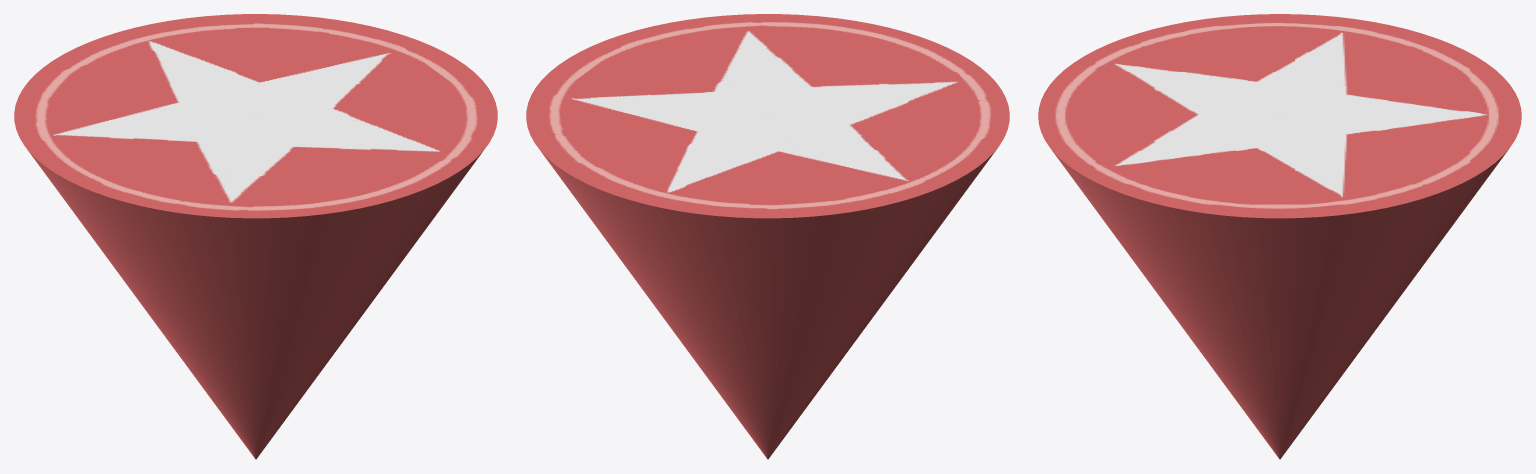
The model's file is 플레이어1갈곳.fbx.
The picture shows the model from 3 angles, left to right: view 1: azimuth 30°, elevation 25°; view 2: azimuth 150°, elevation 25°; view 3: azimuth 270°, elevation 25°; orthographic projection.
Visible parts, largest first — view 1: root; view 2: root; view 3: root.
Boxes of the visible parts, left/top/right/bottom form: root: left=14, top=14, right=497, bottom=459; root: left=526, top=14, right=1009, bottom=459; root: left=1038, top=14, right=1521, bottom=459.
Size of the model in its own units: 0.2547 by 0.1998 by 0.2547.
1 material, 1 textured.
